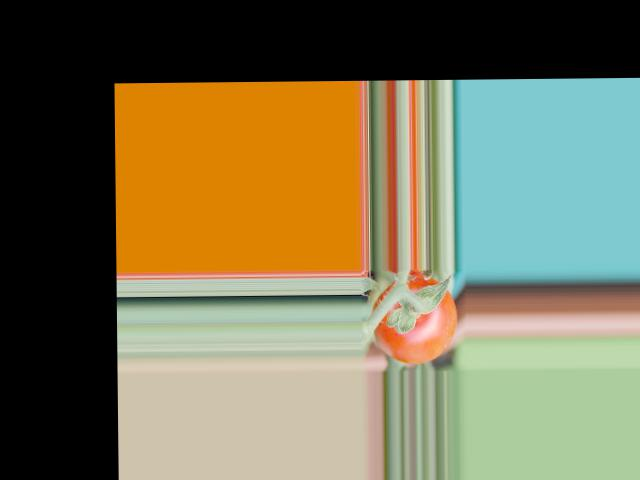tomato: (371, 270, 458, 363)
